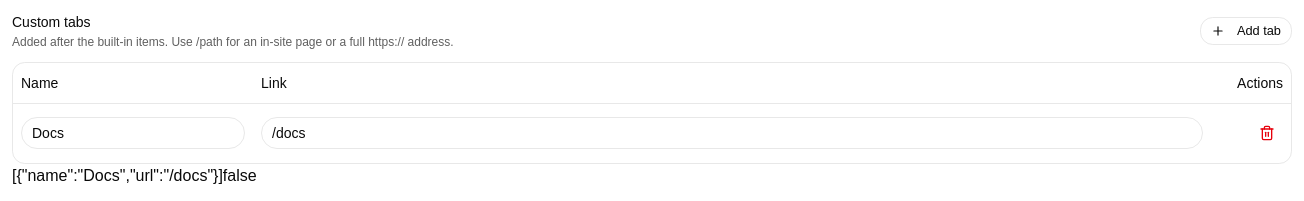
Test: header nav custom links editor › edits an existing row and reports the values upward
Replace the text in the field named "Custom tab name" with "Handbook": x=133, y=133 [21,117,245,149]
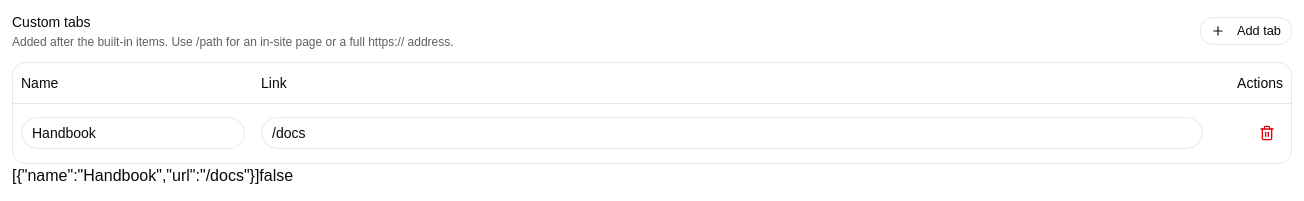
Replace the text in the field named "Custom tab link" with "https://handbook.example.com": x=732, y=133 [261,117,1203,149]
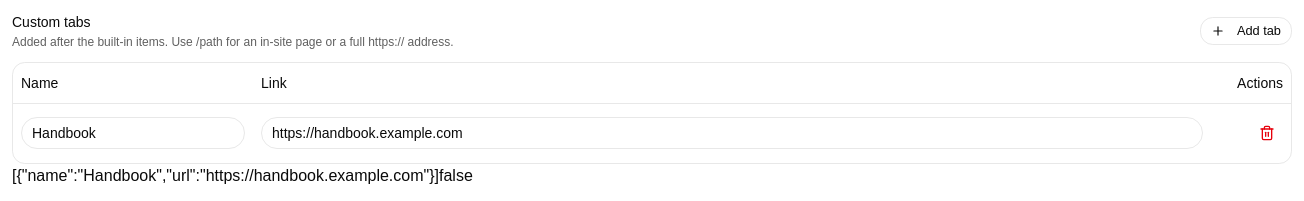
Now the text with test id "serialized" reads "[{\"name\":\"Handbook\",\"url\":\"https://handbook.example.com\"}]", box [12,167,439,184]
